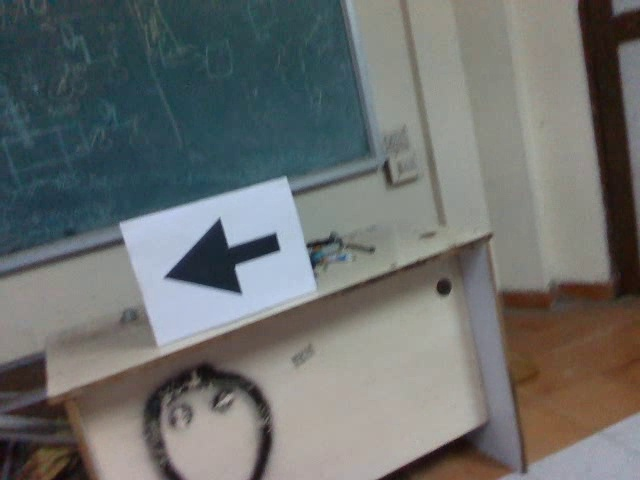Left: (153, 215, 282, 297)
